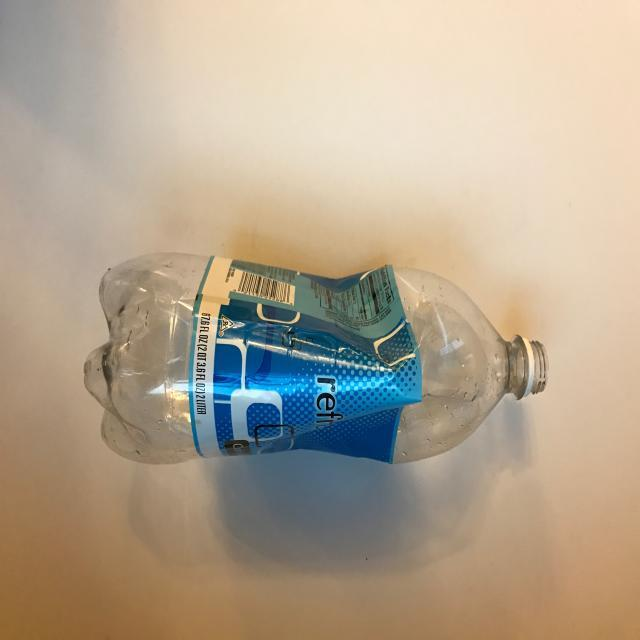plastic: (77, 248, 550, 474)
